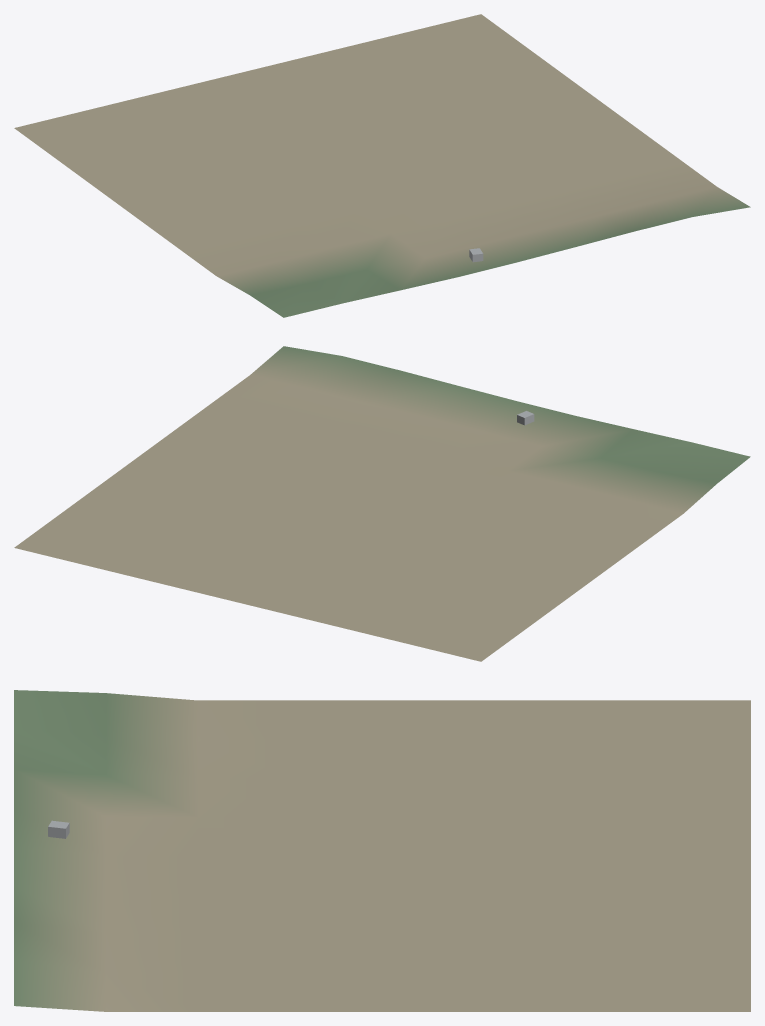
The picture shows the model from 3 angles, top to bottom: view 1: azimuth 30°, elevation 25°; view 2: azimuth 150°, elevation 25°; view 3: azimuth 270°, elevation 25°; orthographic projection. The views are drawn at different scales.
Visible parts, largest first — view 1: Lo; view 2: Lo; view 3: Lo.
Boxes of the visible parts, box(x1,y1,x2,y2) form: Lo: box(14, 14, 750, 317); Lo: box(14, 346, 750, 661); Lo: box(14, 690, 750, 1011).
Bounding box in the file's own units: 256 × 5.77 × 256.
